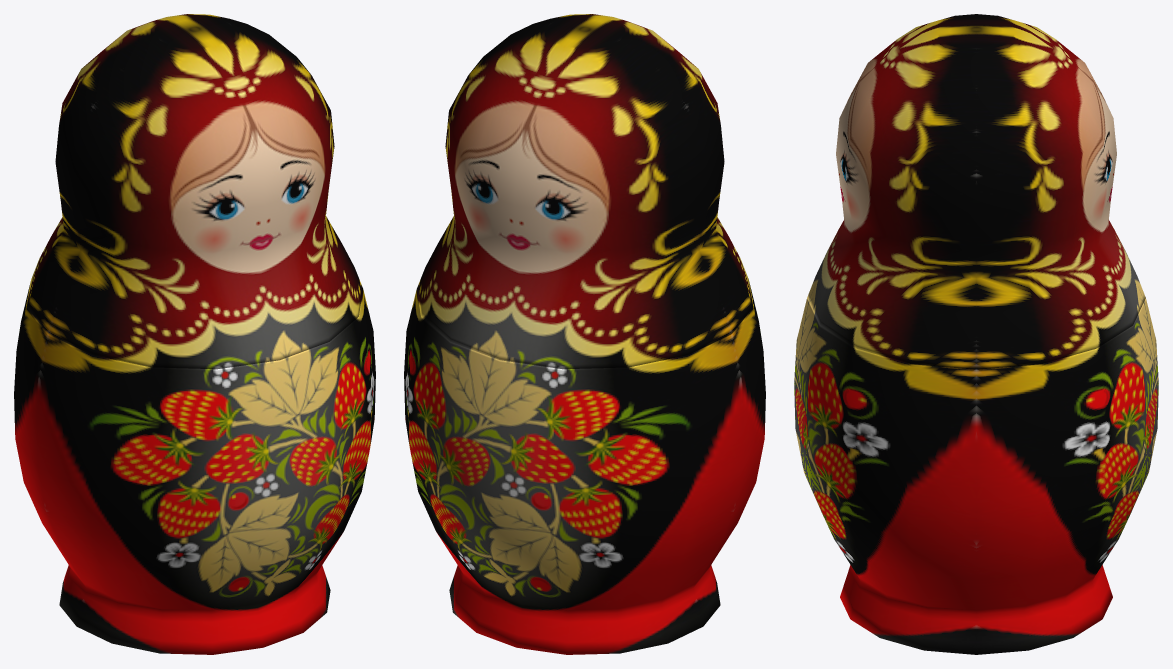
Rendered from five_mat.glb.
3 renders of one model, left to right at view 1: azimuth 30°, elevation 25°; view 2: azimuth 150°, elevation 25°; view 3: azimuth 270°, elevation 25°, orthographic.
Parts seen in each view (by area): view 1: down, up; view 2: down, up; view 3: down, up.
Part boxes in pixels (box(x1,y1,x2,y2)): down: box(14, 281, 375, 654); up: box(27, 14, 362, 369); down: box(404, 281, 765, 654); up: box(417, 14, 752, 369); down: box(794, 298, 1158, 654); up: box(807, 14, 1145, 369).
Bounding box in the file's own units: 2.32 × 3.98 × 2.32.
1 material, 1 textured.
